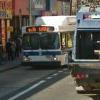Bus: (17, 15, 70, 69)
